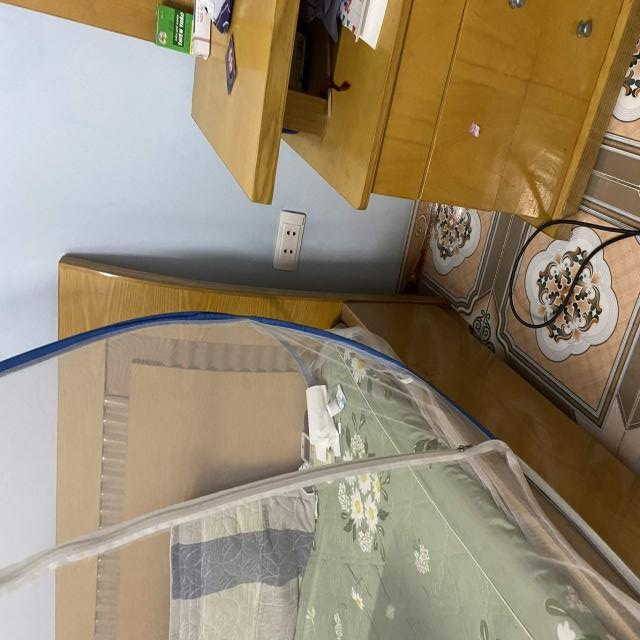outlet: (272, 211, 306, 272)
